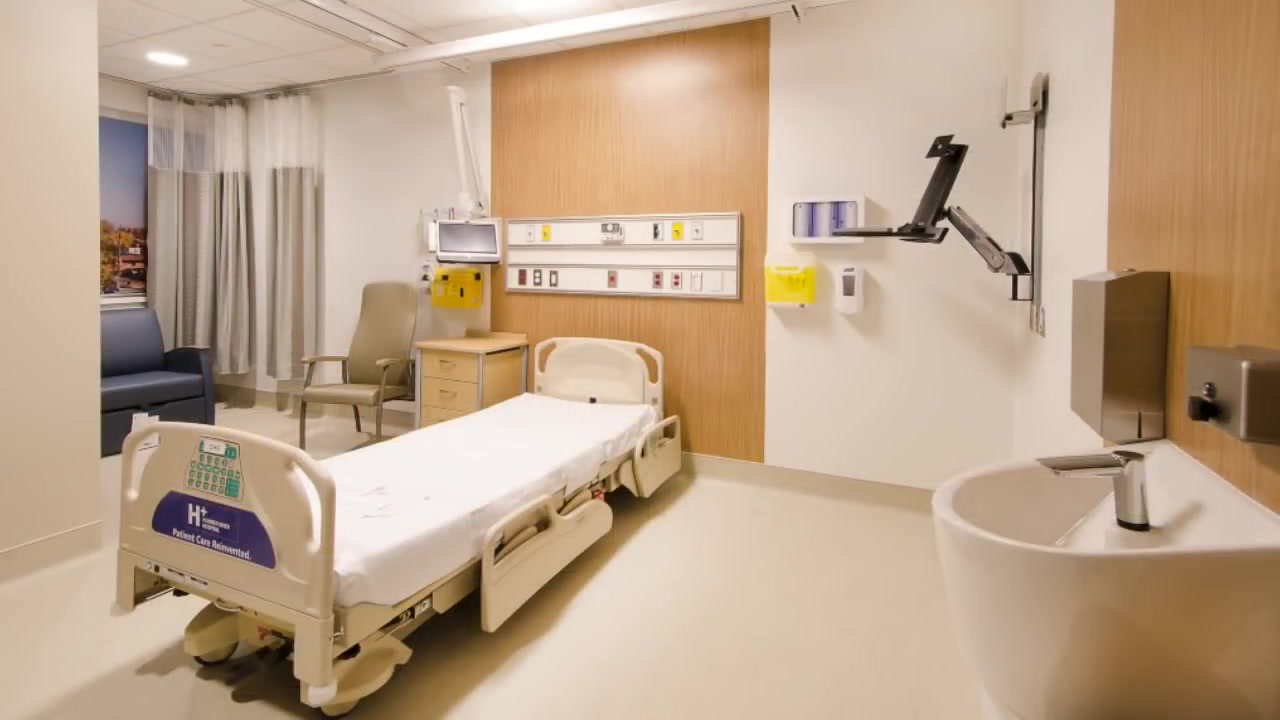bedrail: (473, 495, 613, 632), (633, 415, 681, 497)
bedside_monitor: (434, 218, 502, 263)
bedside_table: (414, 328, 529, 430)
chair: (299, 279, 419, 450)
curtain: (142, 86, 322, 380)
dispenser: (1070, 268, 1172, 446), (783, 193, 864, 244), (834, 262, 865, 315)
faucet: (1029, 448, 1155, 535)
foot_board: (117, 422, 336, 618)
handle: (436, 387, 459, 399), (437, 357, 457, 369)
hospital_bed: (112, 335, 681, 720)
medical_waste_container: (762, 252, 814, 310), (431, 270, 486, 308)
sink: (929, 443, 1280, 720)
sofa: (99, 306, 215, 458)
